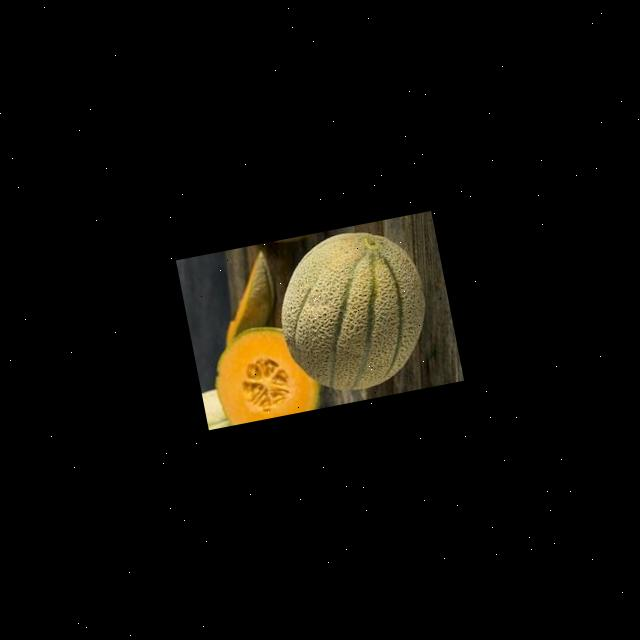Hami Melon: (268, 220, 440, 402), (206, 319, 325, 427)
